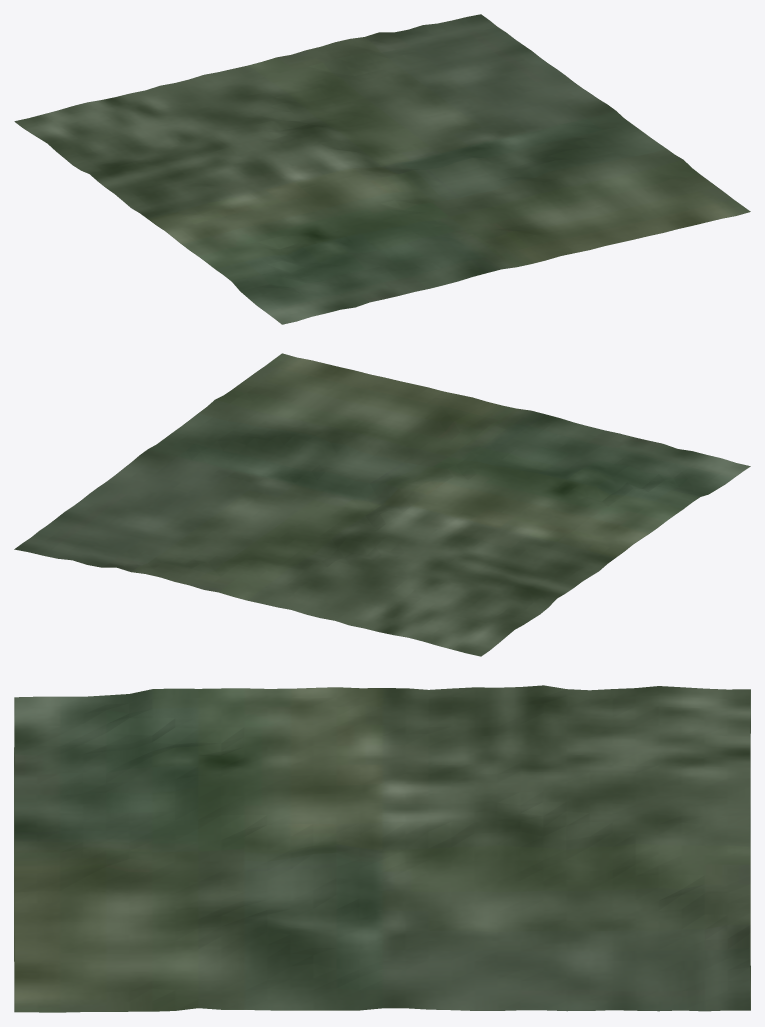
3 renders of one model, top to bottom at view 1: azimuth 30°, elevation 25°; view 2: azimuth 150°, elevation 25°; view 3: azimuth 270°, elevation 25°, orthographic. The views are drawn at different scales.
Bounding box in the file's own units: 31459 × 792 × 31282.
1 material, 1 textured.
